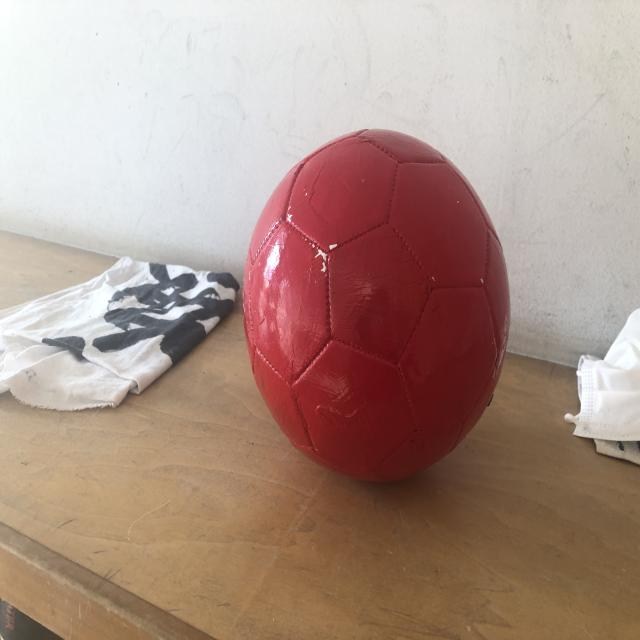red_ball: (243, 127, 510, 485)
